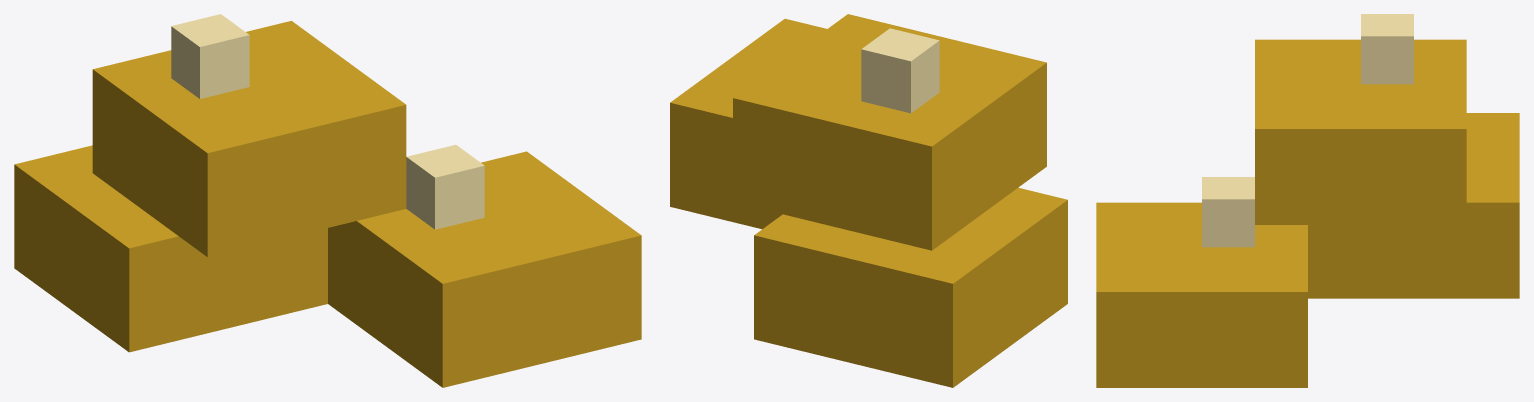
Rendered from item_credits.glb.
3 renders of one model, left to right at view 1: azimuth 30°, elevation 25°; view 2: azimuth 150°, elevation 25°; view 3: azimuth 270°, elevation 25°, orthographic. The views are drawn at different scales.
Parts seen in each view (by area): view 1: Coins mesh, Glint mesh; view 2: Coins mesh, Glint mesh; view 3: Coins mesh, Glint mesh.
Boxes of the visible parts, box(x1,y1,x2,y2) form: Coins mesh: box(14, 21, 641, 387); Glint mesh: box(171, 14, 484, 229); Coins mesh: box(670, 14, 1067, 387); Glint mesh: box(861, 28, 939, 113); Coins mesh: box(1096, 39, 1519, 387); Glint mesh: box(1202, 14, 1413, 247).
Bounding box in the file's own units: 8 × 5 × 8.
Materials: 1 (1 with a texture image).
